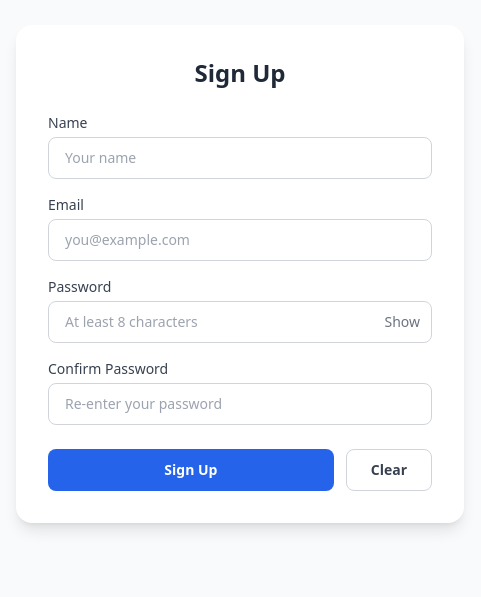
Test: SignupForm › shows validation errors for empty submission
What coordinates should you click on to do the following:
click the button "Sign Up"
I would click on:
 (191, 470)
Its box is [48,449,334,491].
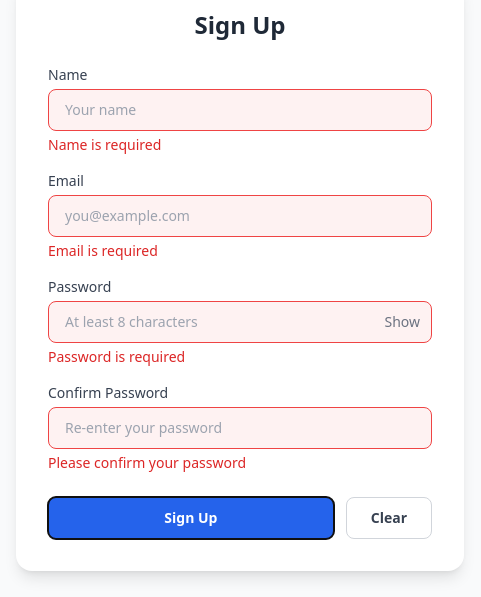
Check: the text "Name is required" is shown, box [48,135,161,154]
Check: the text "Email is required" is shown, box [48,241,158,260]
Check: the text "Password is required" is shown, box [48,347,185,366]
